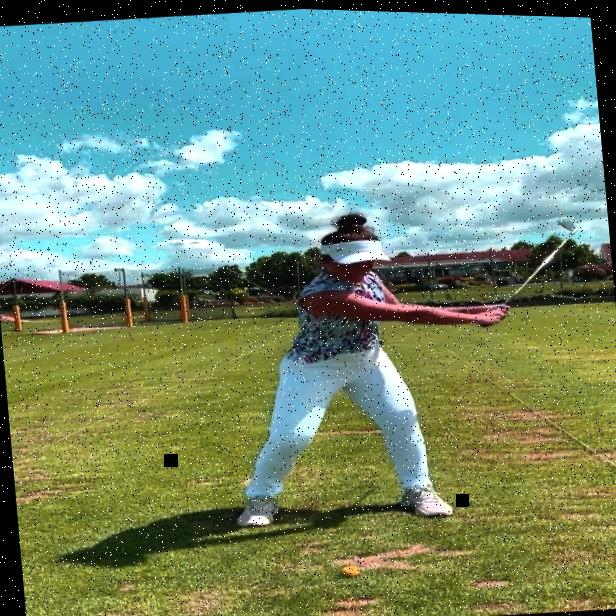ClubHead: (556, 214, 576, 227)
GolfBall: (340, 562, 359, 574)
